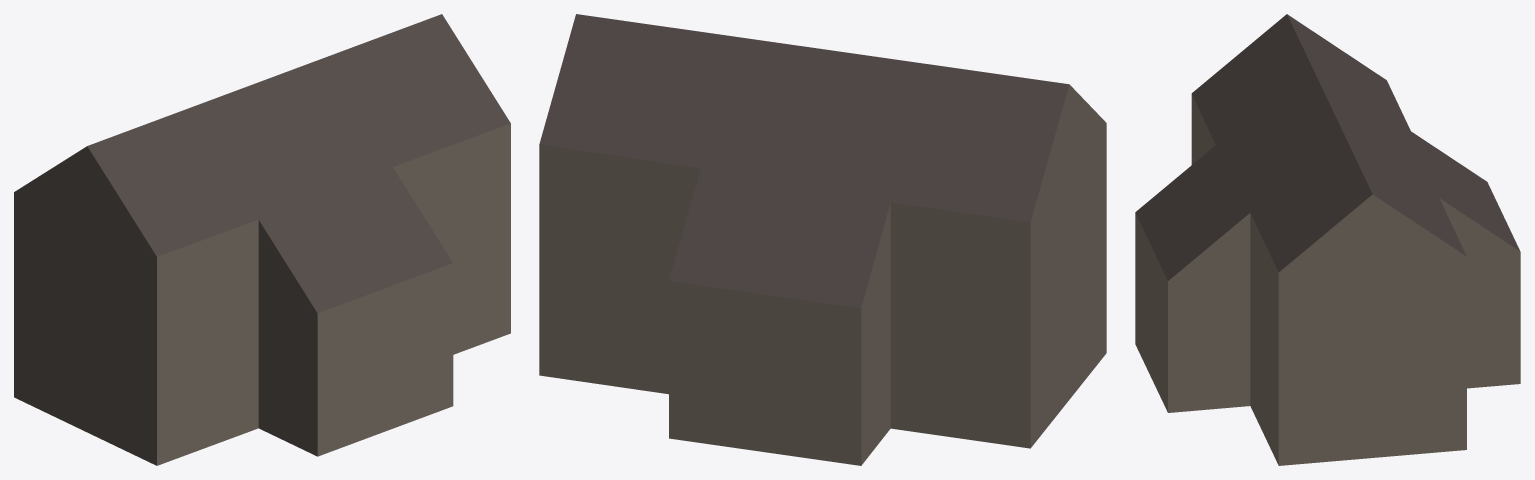
3 views of the same model, side by side, from view 1: azimuth 30°, elevation 25°; view 2: azimuth 150°, elevation 25°; view 3: azimuth 270°, elevation 25° (orthographic). The views are drawn at different scales.
Parts seen in each view (by area): view 1: HP-w428196079; view 2: HP-w428196079; view 3: HP-w428196079.
Boxes of the visible parts, x1,y1,x2,y2 form: HP-w428196079: (14, 14, 510, 465); HP-w428196079: (539, 14, 1106, 465); HP-w428196079: (1135, 14, 1520, 465).
Bounding box in the file's own units: 9.6 × 6 × 7.95.
